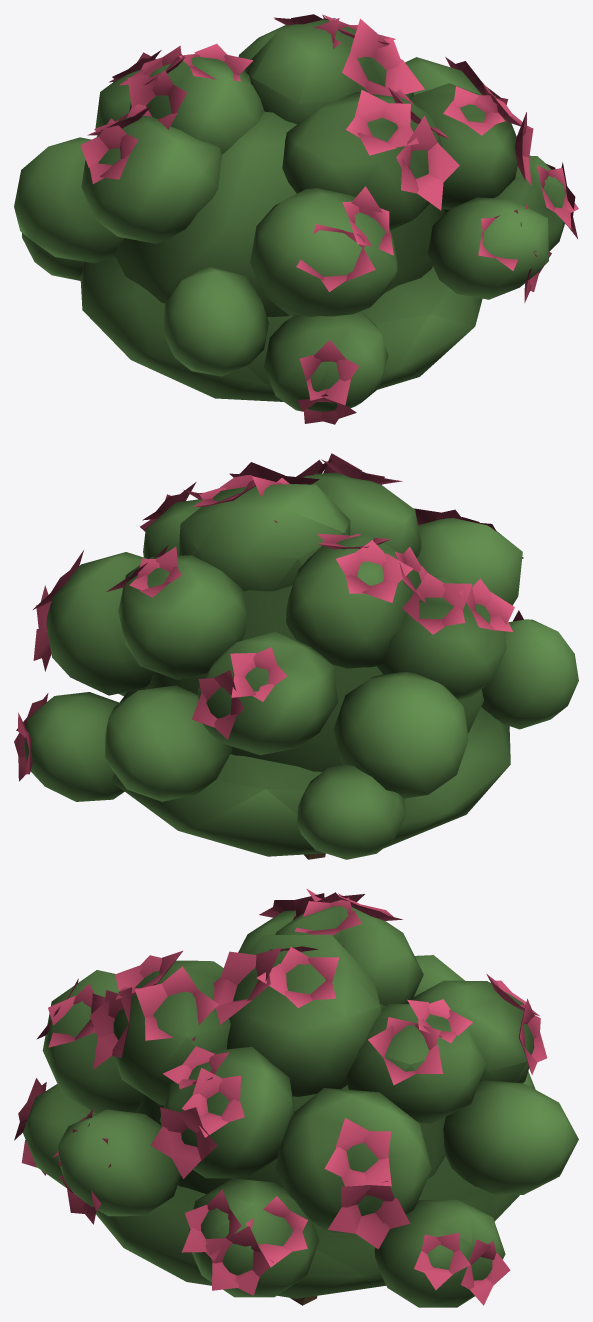
The model's file is bougainvillea_clump.fbx.
The picture shows the model from 3 angles, top to bottom: view 1: azimuth 30°, elevation 25°; view 2: azimuth 150°, elevation 25°; view 3: azimuth 270°, elevation 25°; orthographic projection. The views are drawn at different scales.
Visible parts, largest first — view 1: bougainvillea_clump; view 2: bougainvillea_clump; view 3: bougainvillea_clump.
Part boxes in pixels (x1,y1,x2,y2): bougainvillea_clump: (14,14,578,424); bougainvillea_clump: (14,453,578,859); bougainvillea_clump: (14,888,578,1307).
Size of the model in its own units: 1.76 by 1.31 by 1.77.
